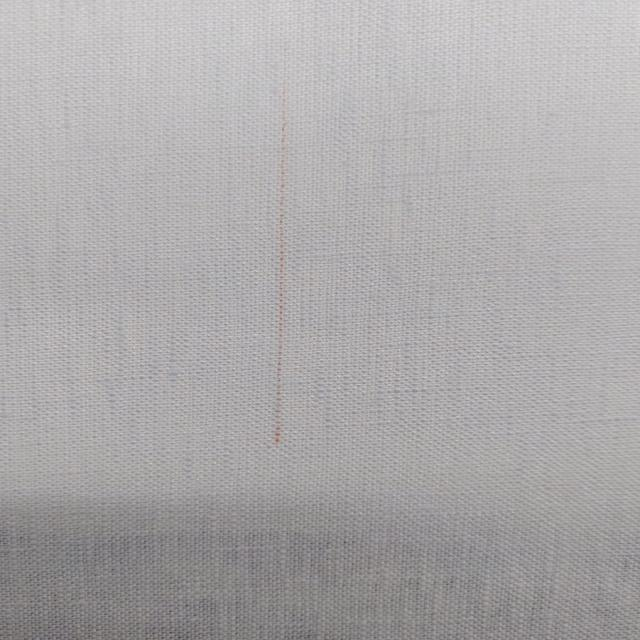stains: (194, 58, 366, 479)
